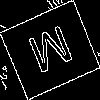M: (25, 25, 79, 83)
